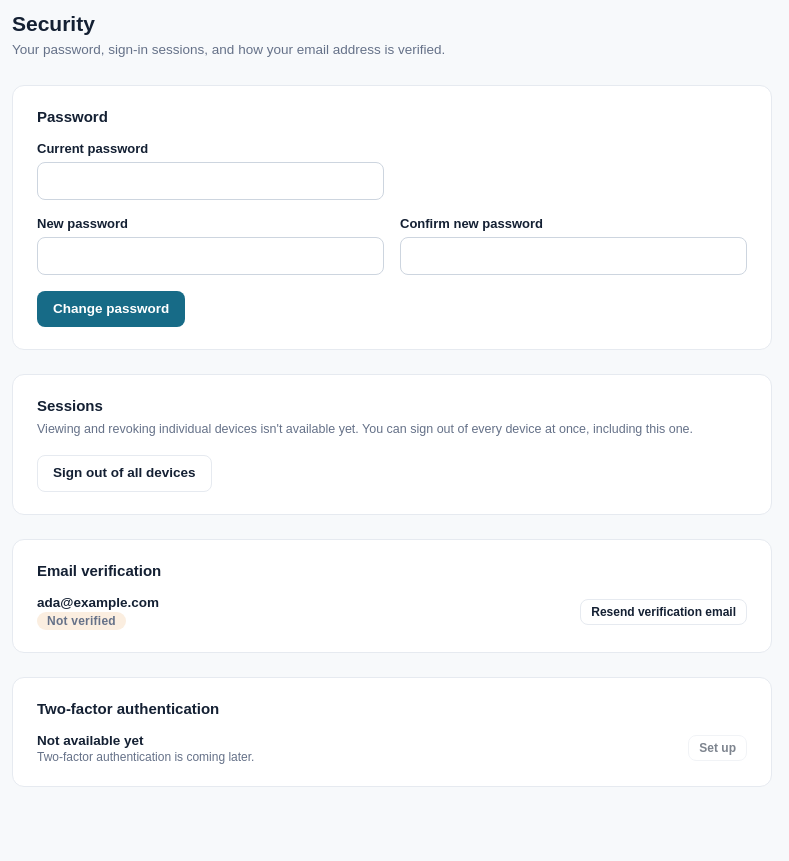
SecuritySettings › changes the password after client-side validation passes
The image size is (789, 861).
In the password field labelled "Current password": (210, 181) [37, 162, 384, 200], type "old-password-1"
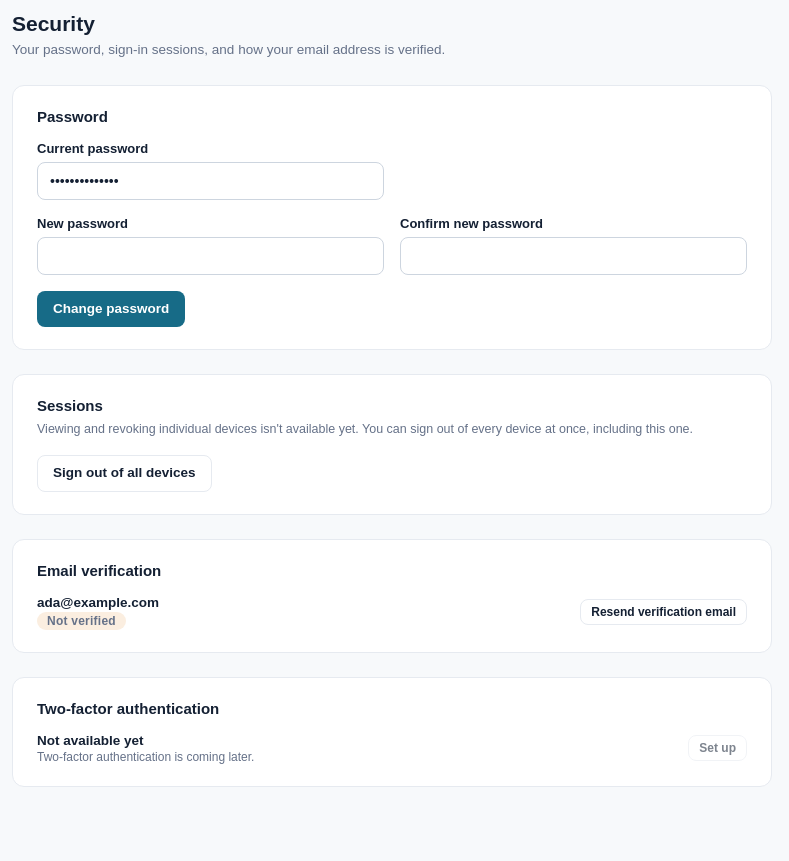
In the password field labelled "New password": (210, 256) [37, 237, 384, 275], type "new-password-1"
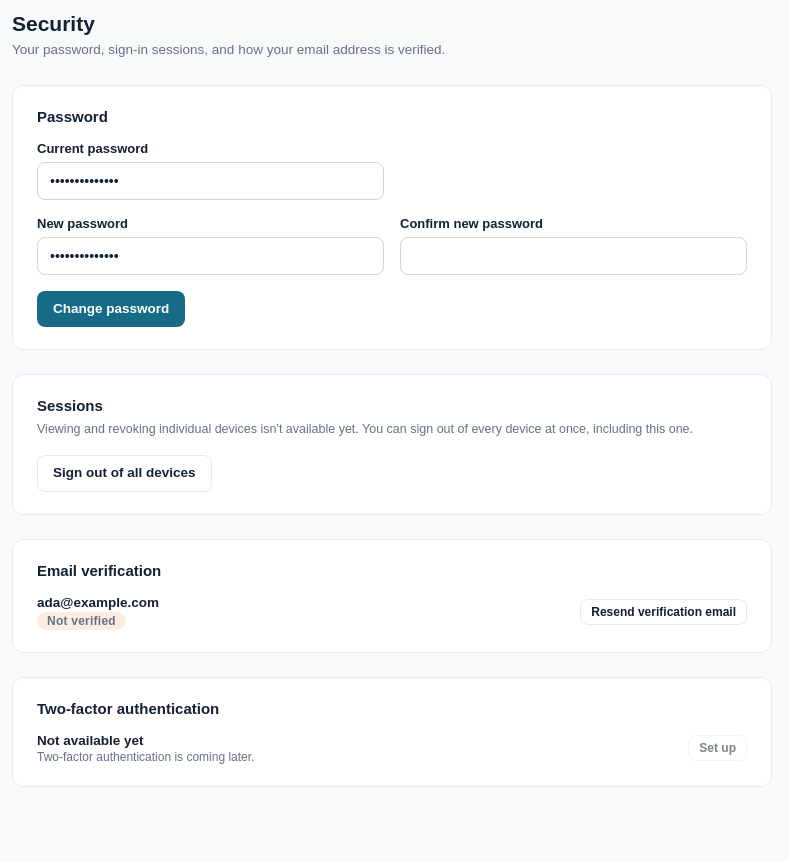
In the password field labelled "Confirm new password": (574, 256) [400, 237, 747, 275], type "new-password-1"
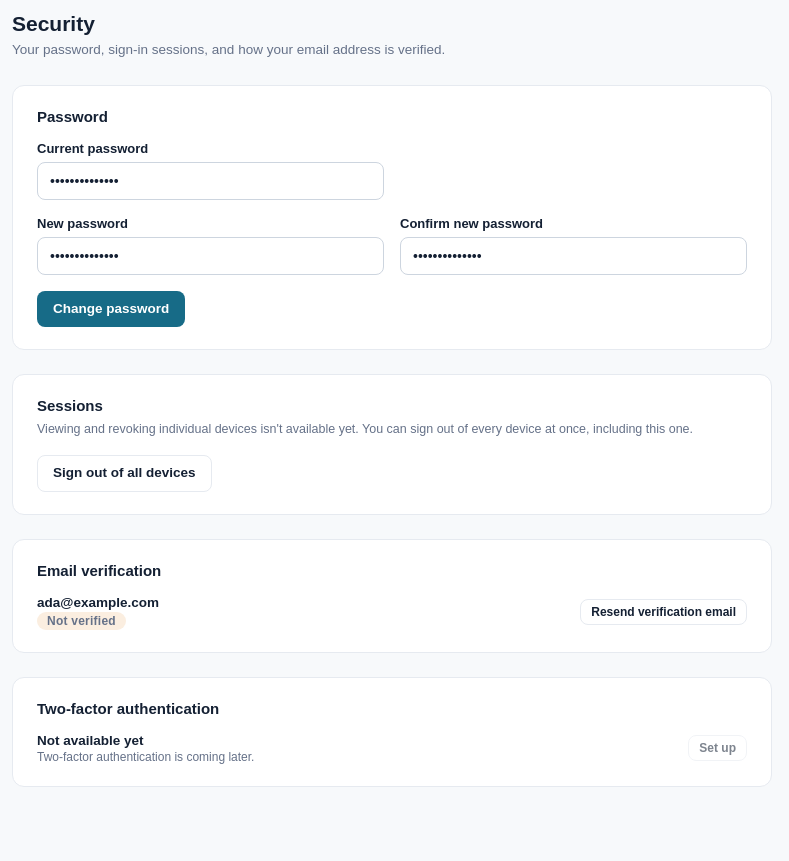
Click the button "Change password": (111, 309) [37, 291, 185, 327]
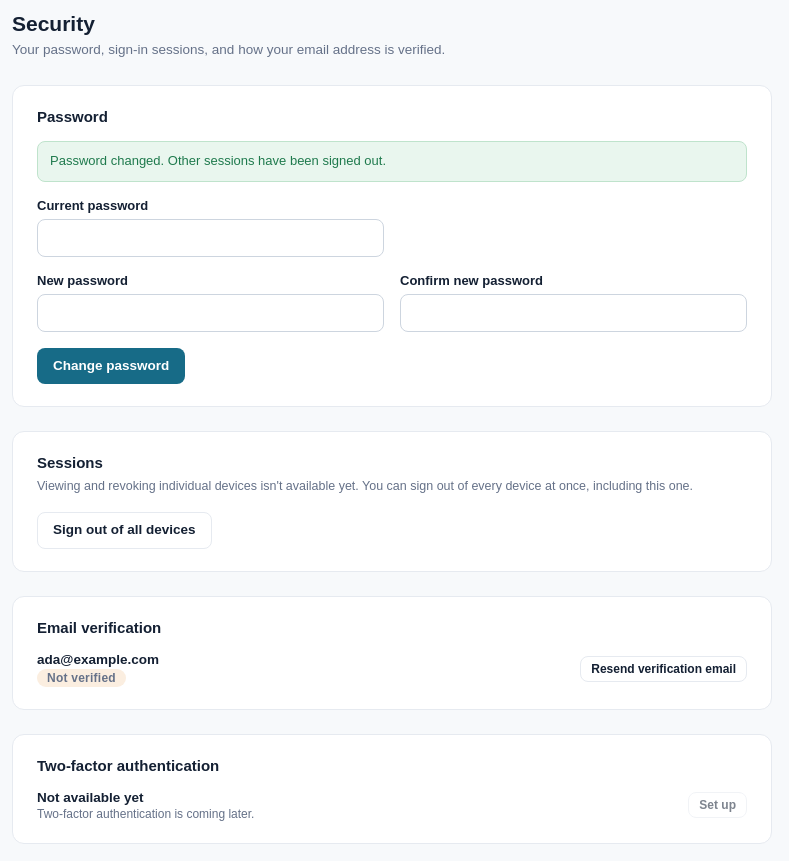
Check: the text "Password changed. Other sessions have been signed out." is shown, box [37, 141, 747, 182]
